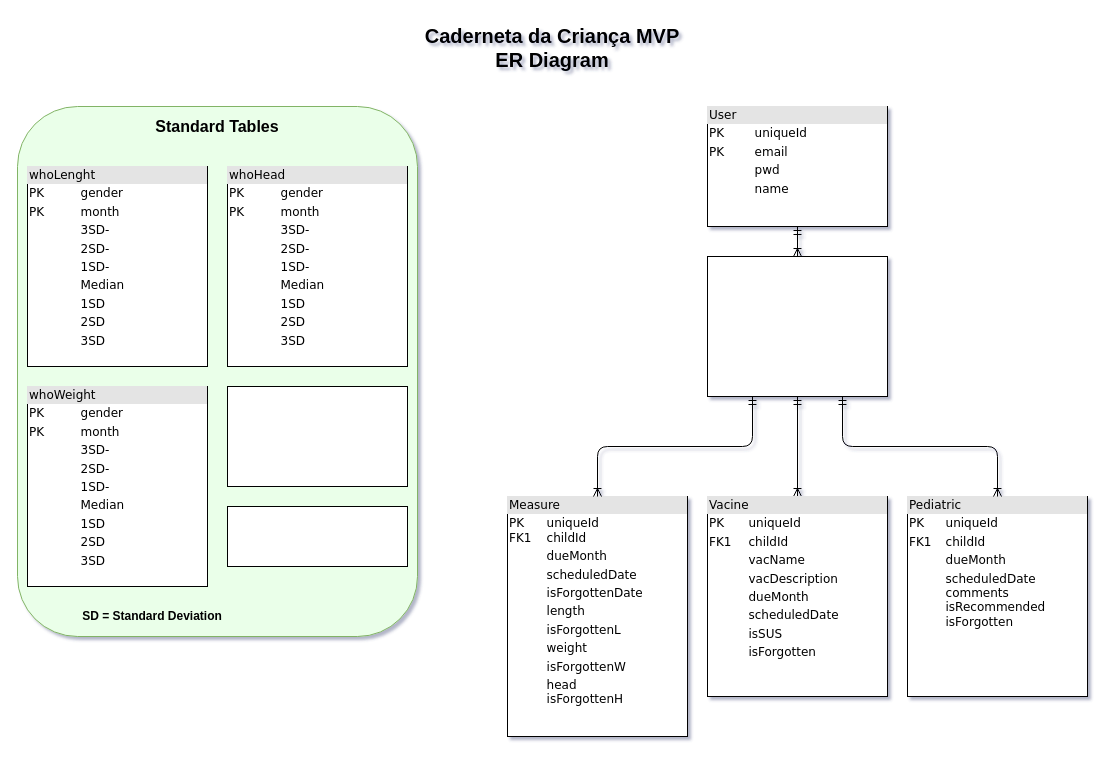
Some shapes in this 1111 by 760 pixel diagram are drawn without their labels. Each missing label, with the centre of its shape:
"Child PK uniqueId FK1 userId childName childBirth childGender" belongs at (797,326).
"pediatricRecommended PK dueMonth" belongs at (317,536).
"vacineSUS PK dueMonth PK shortName vacDescription vacDose" belongs at (317,436).
